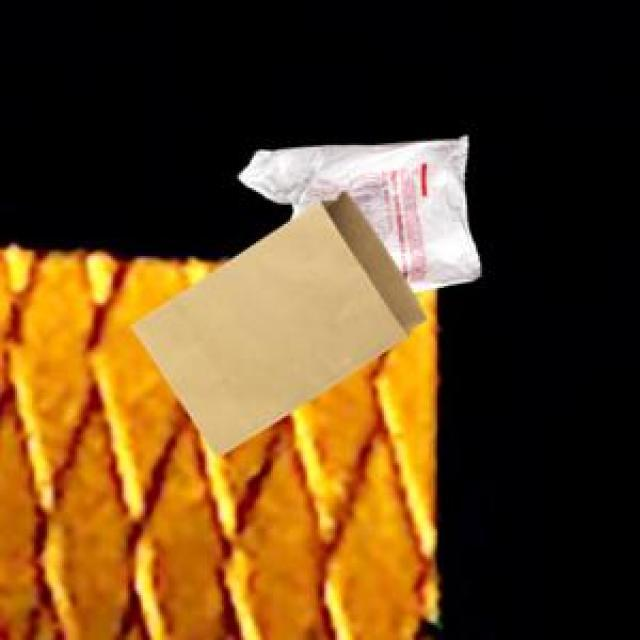paper: (128, 188, 422, 452)
